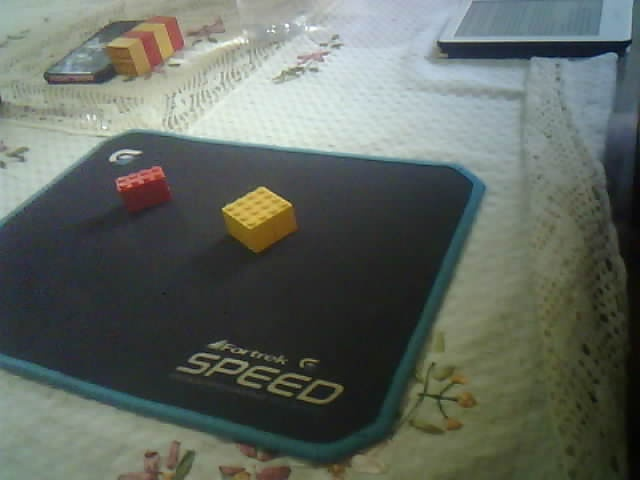lego: (219, 184, 300, 256), (105, 16, 185, 77), (115, 164, 172, 217)
